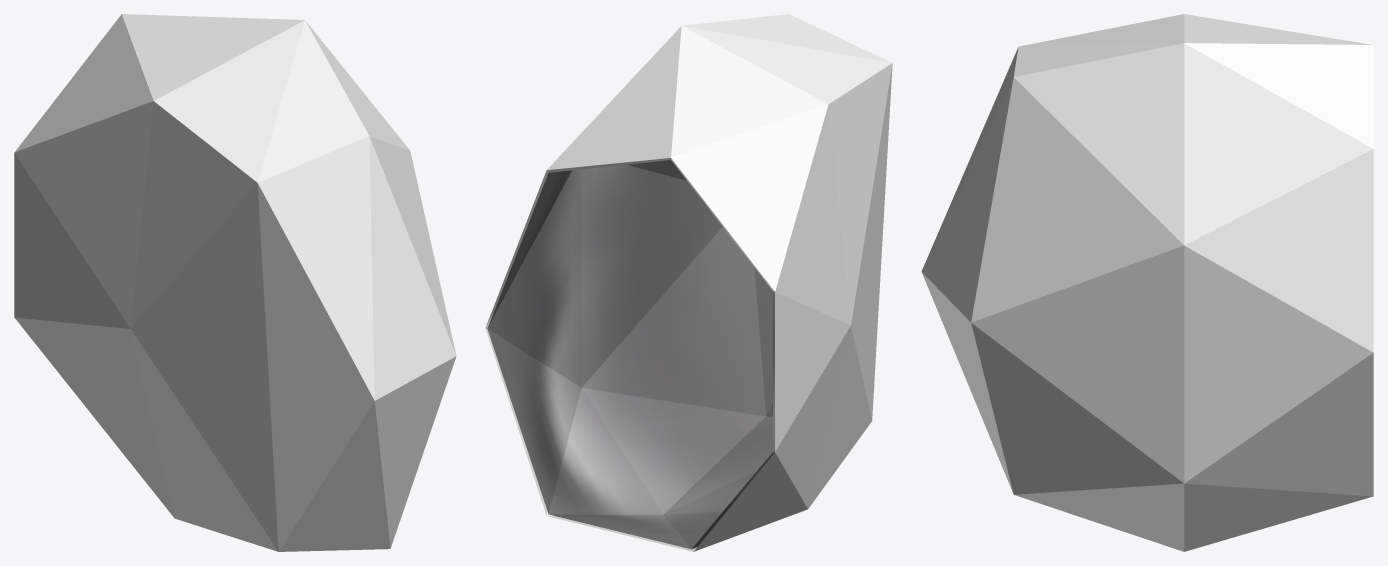
3 views of the same model, side by side, from view 1: azimuth 30°, elevation 25°; view 2: azimuth 150°, elevation 25°; view 3: azimuth 270°, elevation 25° (orthographic). The views are drawn at different scales.
Visible parts, largest first — view 1: B_0023_2b_1; view 2: B_0023_2b_0, B_0023_2b_1; view 3: B_0023_2b_1.
Part boxes in pixels (box(x1,y1,x2,y2)): B_0023_2b_1: box(14, 14, 456, 551); B_0023_2b_0: box(487, 158, 774, 549); B_0023_2b_1: box(485, 14, 892, 551); B_0023_2b_1: box(921, 14, 1373, 551).
Bounding box in the file's own units: 1.28 × 2.1 × 1.72.
